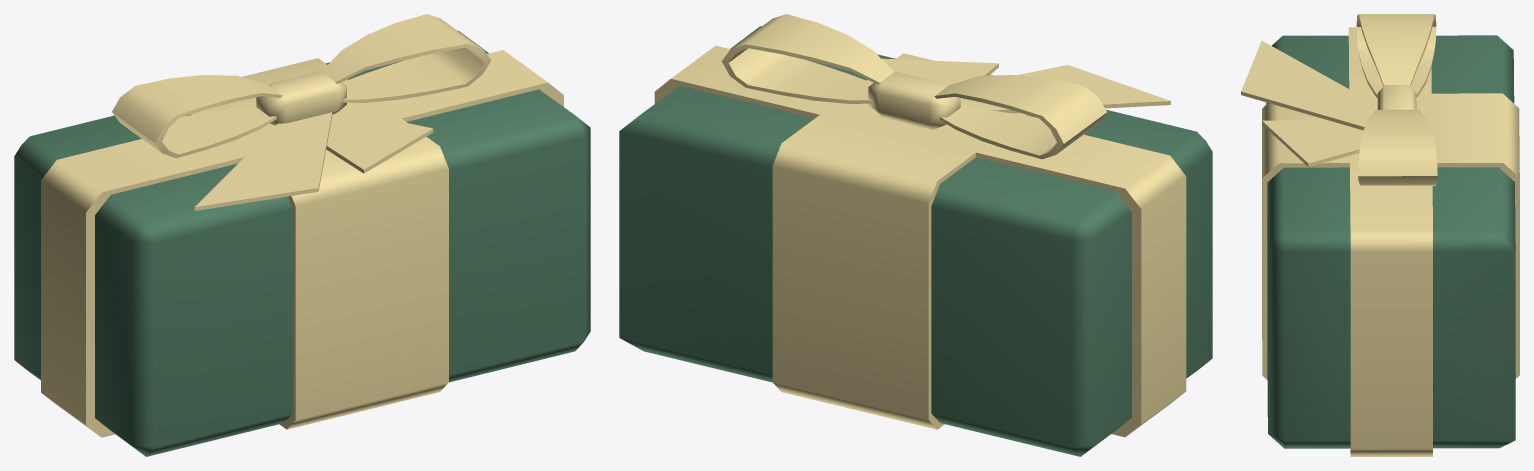
Rendered from Gift_14_231109.glb.
3 views of the same model, side by side, from view 1: azimuth 30°, elevation 25°; view 2: azimuth 150°, elevation 25°; view 3: azimuth 270°, elevation 25° (orthographic). The views are drawn at different scales.
Parts seen in each view (by area): view 1: Gift_14; view 2: Gift_14; view 3: Gift_14.
Boxes of the visible parts, x1=… form: Gift_14: x1=14, y1=14, x2=590, y2=456; Gift_14: x1=619, y1=14, x2=1212, y2=456; Gift_14: x1=1241, y1=14, x2=1519, y2=456.
Bounding box in the file's own units: 1.25 × 0.745 × 0.6785.
1 material, 1 textured.
